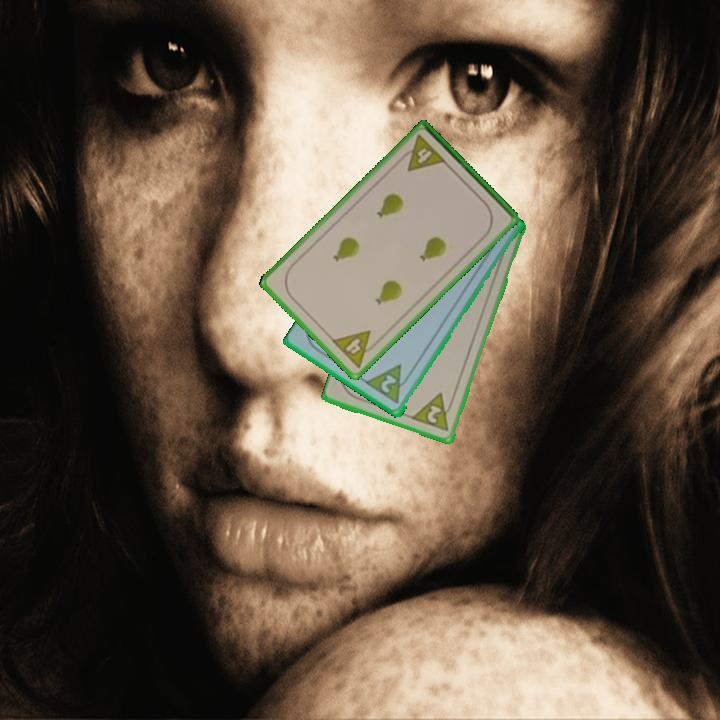2p: (363, 361, 415, 408), (409, 389, 458, 435)
4p: (328, 327, 383, 371), (395, 131, 449, 175)
